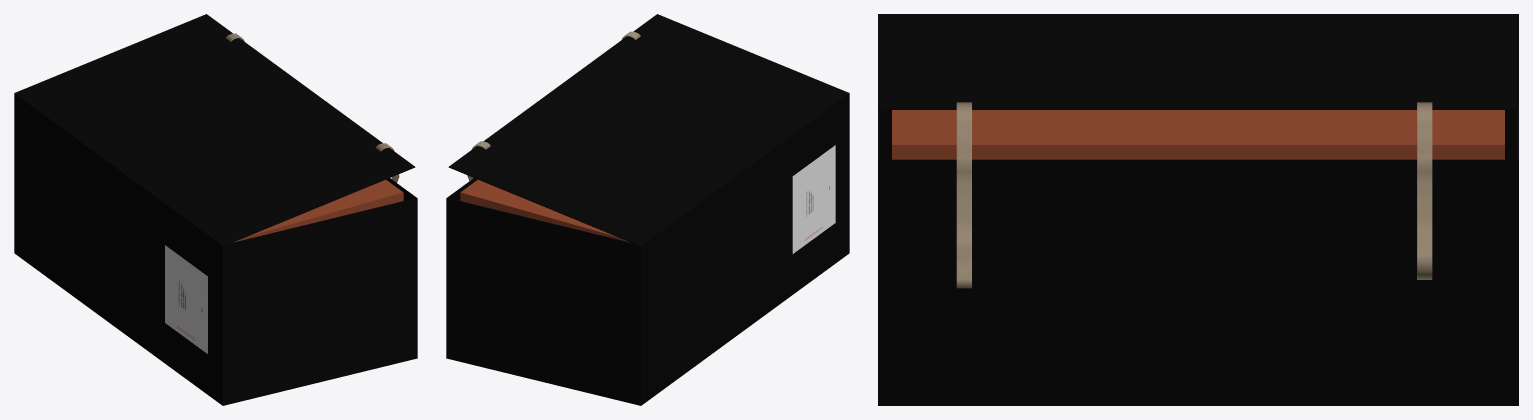
File: ScatolaNera (1).fbx
The picture shows the model from 3 angles, left to right: view 1: azimuth 30°, elevation 25°; view 2: azimuth 150°, elevation 25°; view 3: azimuth 270°, elevation 25°; orthographic projection. The views are drawn at different scales.
Parts seen in each view (by area): view 1: Cube, Cube.001, Biennale_diff, Cube.002; view 2: Cube, Cube.001, Biennale_diff, Cube.002; view 3: Cube, Cube.001, Cube.002.
Boxes of the visible parts, x1,y1,x2,y2 form: Cube: [14, 93, 417, 405]; Cube.001: [14, 14, 415, 245]; Biennale_diff: [165, 245, 207, 353]; Cube.002: [233, 179, 403, 242]; Cube: [446, 93, 849, 405]; Cube.001: [448, 14, 849, 245]; Biennale_diff: [792, 145, 835, 253]; Cube.002: [460, 179, 630, 242]; Cube: [878, 110, 1518, 405]; Cube.001: [878, 14, 1518, 288]; Cube.002: [892, 110, 1504, 159].
Bounding box in the file's own units: 213 × 190 × 371.
Materials: 4 (1 with a texture image).
